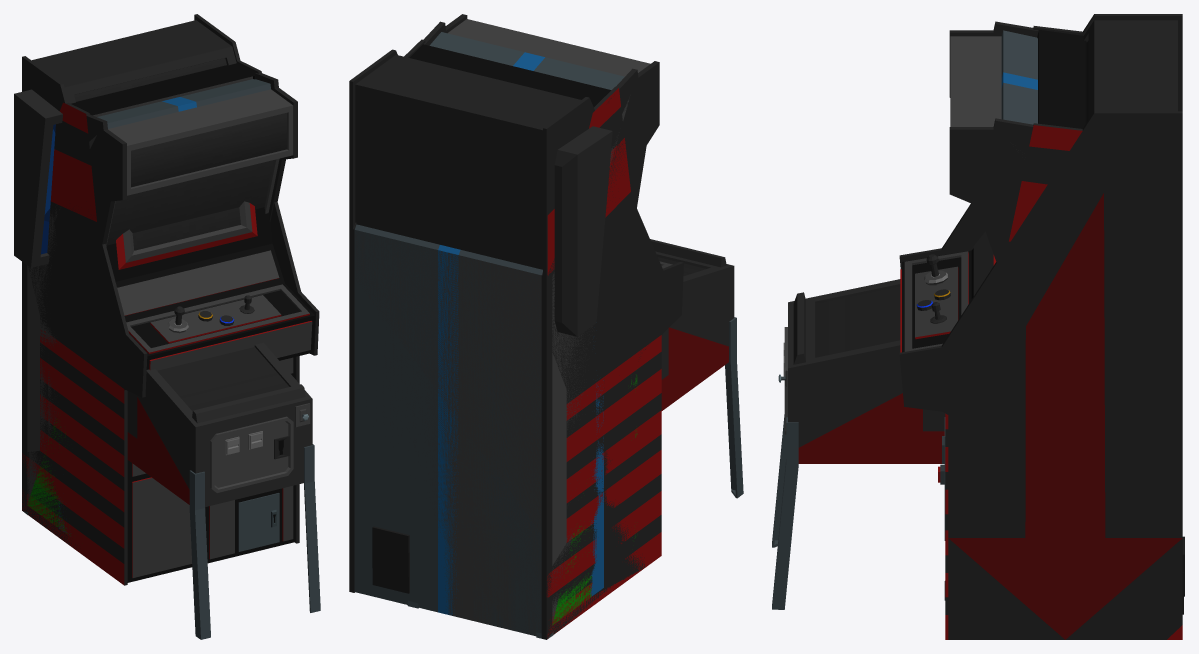
Rendered from arcadepoly.glb.
3 views of the same model, side by side, from view 1: azimuth 30°, elevation 25°; view 2: azimuth 150°, elevation 25°; view 3: azimuth 270°, elevation 25° (orthographic). The views are drawn at different scales.
Visible parts, largest first — view 1: ArcadeMachineV4, PinballMachineV1, ArcadeMachineV1, ArcadeMachineV3, ArcadeMachineV2; view 2: ArcadeMachineV2, ArcadeMachineV1, ArcadeMachineV4, ArcadeMachineV3, PinballMachineV1; view 3: ArcadeMachineV3, PinballMachineV1, ArcadeMachineV4, ArcadeMachineV1, ArcadeMachineV2.
Part boxes in pixels (x1,y1,x2,y2): ArcadeMachineV4: [22, 60, 319, 585]; PinballMachineV1: [14, 89, 320, 639]; ArcadeMachineV1: [22, 86, 297, 555]; ArcadeMachineV3: [22, 14, 301, 390]; ArcadeMachineV2: [40, 73, 278, 535]; ArcadeMachineV2: [349, 21, 644, 639]; ArcadeMachineV1: [349, 14, 659, 639]; ArcadeMachineV4: [351, 39, 683, 639]; ArcadeMachineV3: [349, 49, 663, 624]; PinballMachineV1: [407, 126, 743, 639]; ArcadeMachineV3: [915, 14, 1182, 639]; PinballMachineV1: [772, 279, 945, 609]; ArcadeMachineV4: [899, 26, 1183, 639]; ArcadeMachineV1: [949, 30, 1028, 262]; ArcadeMachineV2: [982, 21, 1184, 596].
Bounding box in the file's own units: 0.7266 × 1.63 × 1.16.
13 materials, 13 textured.
